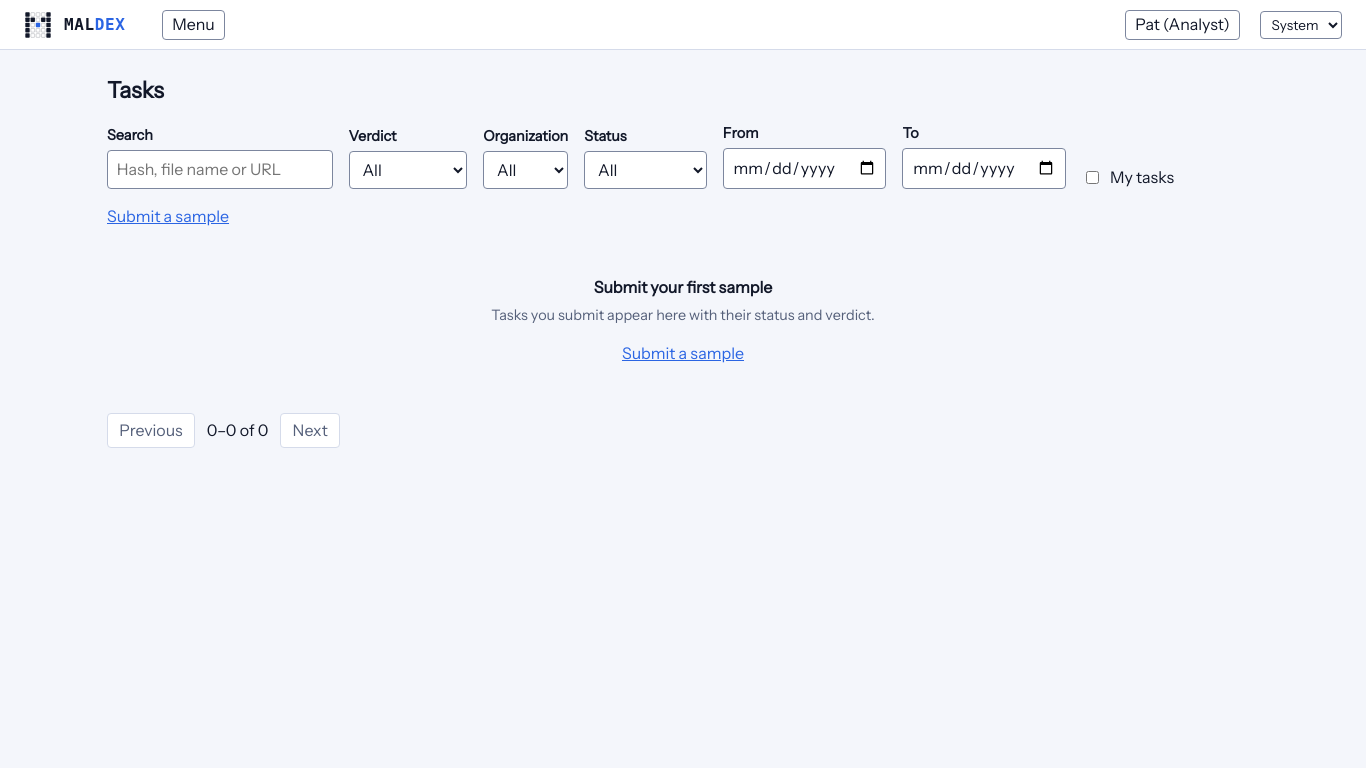
it: collapses the nav into a menu button under 768 px
Click the button "Menu": (194, 25) left=162, top=10, right=225, bottom=40
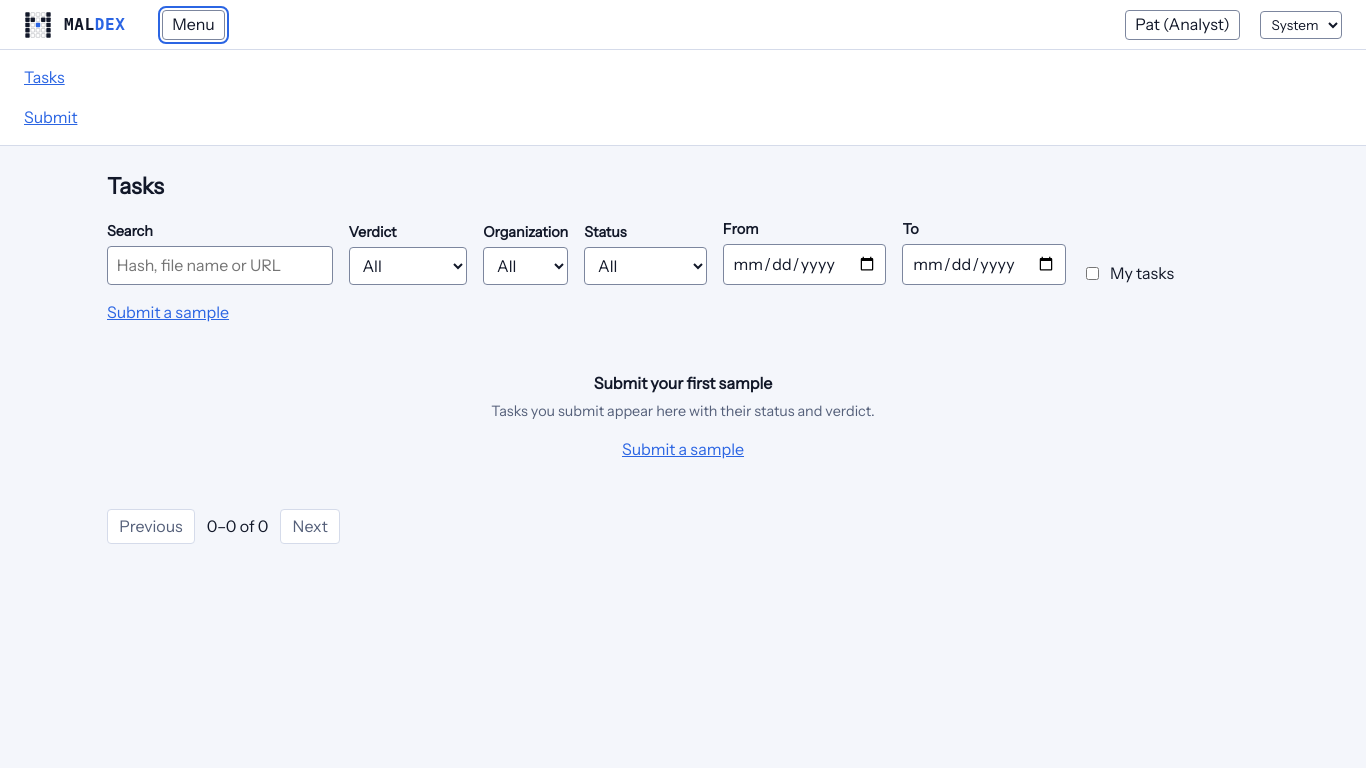
Check: the link "Submit" is shown, box left=24, top=107, right=77, bottom=127
